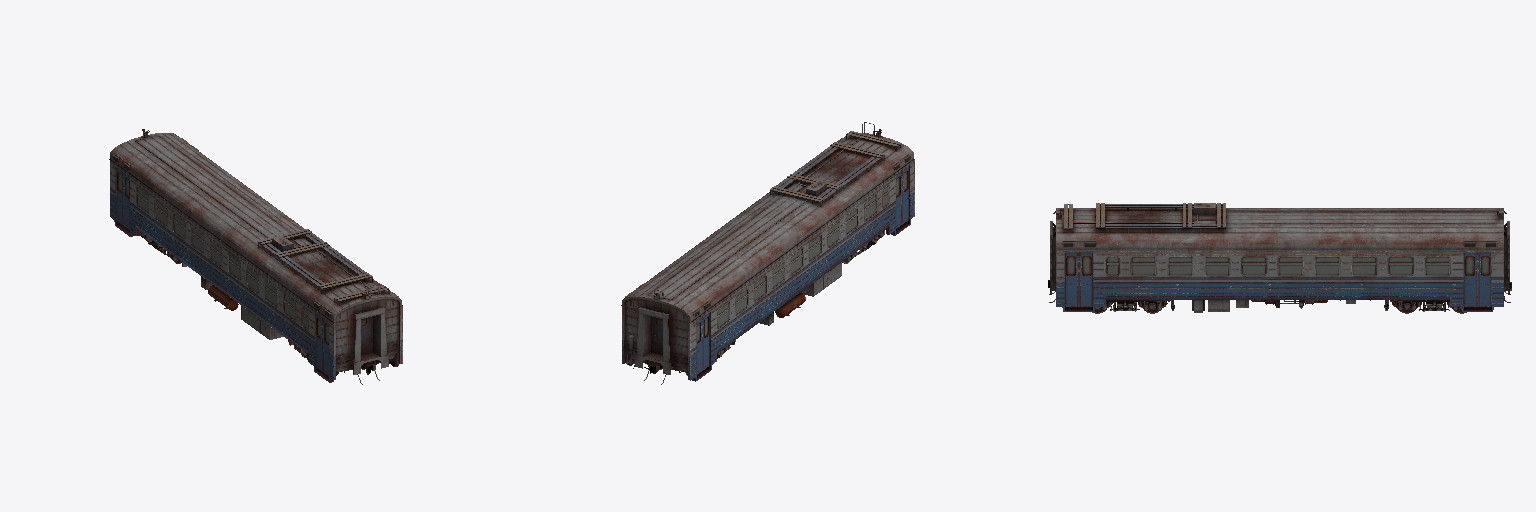
3 renders of one model, left to right at view 1: azimuth 30°, elevation 25°; view 2: azimuth 150°, elevation 25°; view 3: azimuth 270°, elevation 25°, orthographic.
Parts seen in each view (by area): view 1: Object114_Untitled; view 2: Object114_Untitled; view 3: Object114_Untitled.
Part boxes in pixels (x1,y1,x2,y2): Object114_Untitled: (109, 129, 402, 384); Object114_Untitled: (621, 122, 914, 384); Object114_Untitled: (1048, 203, 1511, 313).
Size of the model in its own units: 3.72 by 5.06 by 21.28.
1 materials, 1 textured.